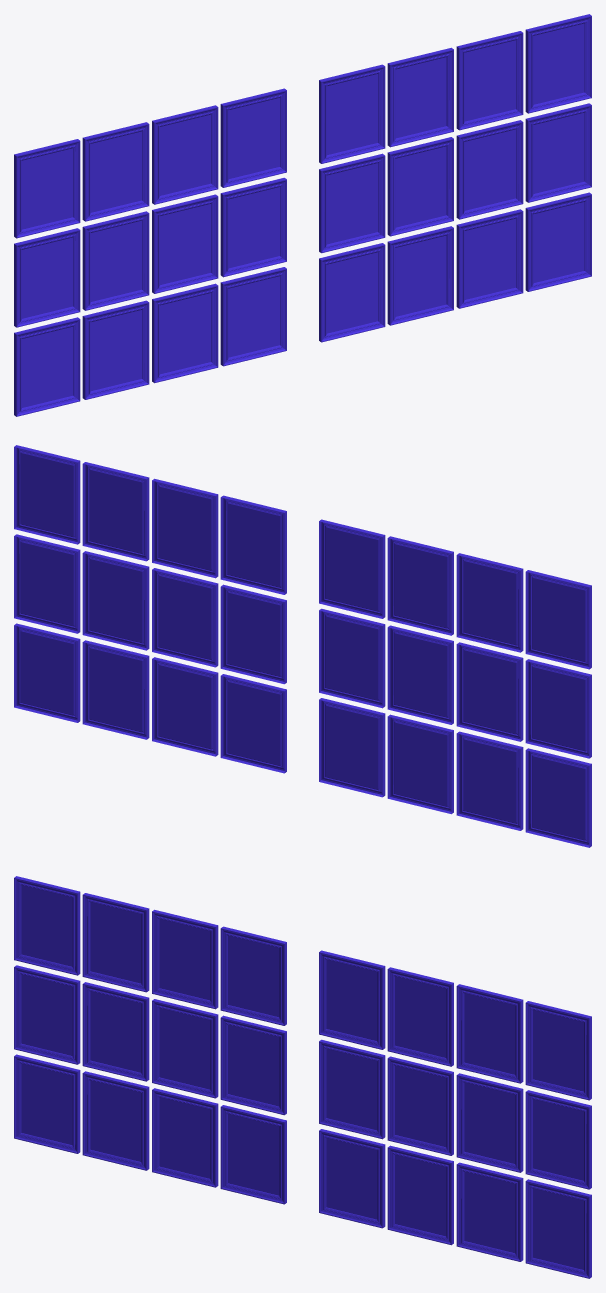
File: Paintings_013-(FBX).FBX
3 views of the same model, one above another, from view 1: azimuth 30°, elevation 25°; view 2: azimuth 150°, elevation 25°; view 3: azimuth 330°, elevation 25° (orthographic).
Parts seen in each view (by area): view 1: 055-Fr-016, 055-Fr-005, 055-Fr-009, 055-Fr-017, 055-Fr-002, 055-Fr-023, 055-Fr-004, 055-Fr-010, 055-Fr-012, 055-Fr-018, 055-Fr-019, 055-Fr-021 (+12 smaller); view 2: 055-Fr-016, 055-Fr-005, 055-Fr-009, 055-Fr-017, 055-Fr-002, 055-Fr-023, 055-Fr-004, 055-Fr-010, 055-Fr-012, 055-Fr-018, 055-Fr-019, 055-Fr-021 (+12 smaller); view 3: 055-Fr-016, 055-Fr-005, 055-Fr-002, 055-Fr-023, 055-Fr-009, 055-Fr-017, 055-Fr-003, 055-Fr-011, 055-Fr-001, 055-Fr-020, 055-Fr-022, 055-Fr-024 (+12 smaller).
Boxes of the visible parts, x1=… form: 055-Fr-016: x1=456, y1=120, x2=523, y2=219; 055-Fr-005: x1=82, y1=211, x2=149, y2=310; 055-Fr-009: x1=82, y1=300, x2=149, y2=399; 055-Fr-017: x1=456, y1=31, x2=523, y2=130; 055-Fr-002: x1=82, y1=122, x2=149, y2=221; 055-Fr-023: x1=456, y1=209, x2=523, y2=308; 055-Fr-004: x1=152, y1=105, x2=218, y2=204; 055-Fr-010: x1=220, y1=267, x2=286, y2=366; 055-Fr-012: x1=14, y1=317, x2=80, y2=416; 055-Fr-018: x1=319, y1=64, x2=385, y2=163; 055-Fr-019: x1=525, y1=14, x2=591, y2=113; 055-Fr-021: x1=387, y1=226, x2=453, y2=325; 055-Fr-016: x1=82, y1=551, x2=149, y2=650; 055-Fr-005: x1=456, y1=642, x2=523, y2=741; 055-Fr-009: x1=456, y1=731, x2=523, y2=830; 055-Fr-017: x1=82, y1=462, x2=149, y2=561; 055-Fr-002: x1=456, y1=553, x2=523, y2=652; 055-Fr-023: x1=82, y1=640, x2=149, y2=739; 055-Fr-004: x1=387, y1=536, x2=453, y2=635; 055-Fr-010: x1=319, y1=698, x2=385, y2=797; 055-Fr-012: x1=525, y1=748, x2=591, y2=847; 055-Fr-018: x1=220, y1=495, x2=286, y2=594; 055-Fr-019: x1=14, y1=445, x2=80, y2=544; 055-Fr-021: x1=152, y1=657, x2=218, y2=756; 055-Fr-016: x1=456, y1=1073, x2=523, y2=1172; 055-Fr-005: x1=82, y1=982, x2=149, y2=1081; 055-Fr-002: x1=82, y1=893, x2=149, y2=992; 055-Fr-023: x1=456, y1=1162, x2=523, y2=1261; 055-Fr-009: x1=82, y1=1071, x2=149, y2=1170; 055-Fr-017: x1=456, y1=984, x2=523, y2=1083; 055-Fr-003: x1=220, y1=926, x2=286, y2=1025; 055-Fr-011: x1=152, y1=1088, x2=218, y2=1187; 055-Fr-001: x1=14, y1=876, x2=80, y2=975; 055-Fr-020: x1=387, y1=967, x2=453, y2=1066; 055-Fr-022: x1=525, y1=1179, x2=591, y2=1278; 055-Fr-024: x1=319, y1=1129, x2=385, y2=1228.
Size of the model in its own units: 4268 by 1847 by 32.81.
